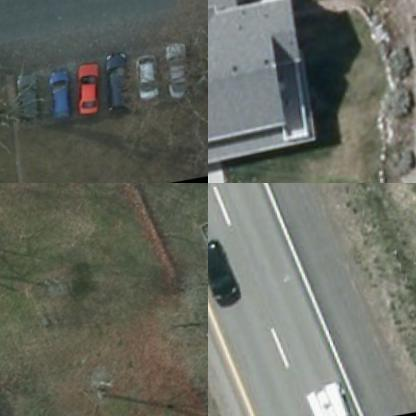car: (100, 56, 132, 122), (208, 237, 237, 309), (69, 66, 103, 124), (160, 44, 192, 105), (42, 70, 71, 129), (132, 58, 160, 110), (13, 72, 39, 126)
